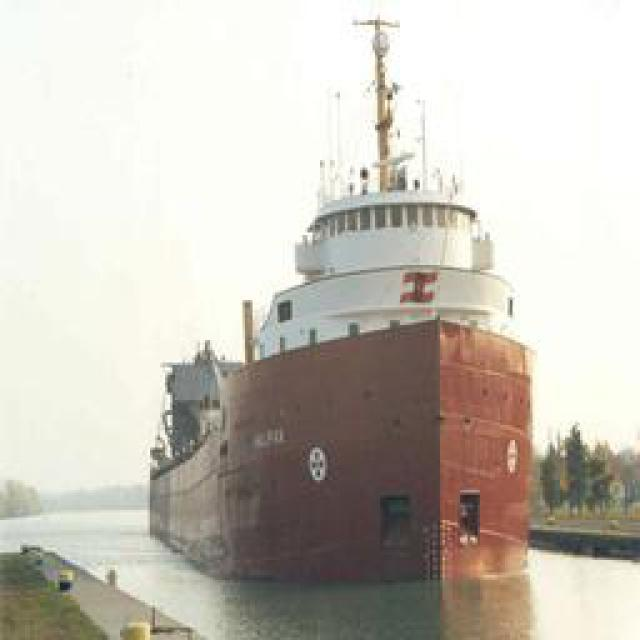Ship: (129, 4, 549, 589)
